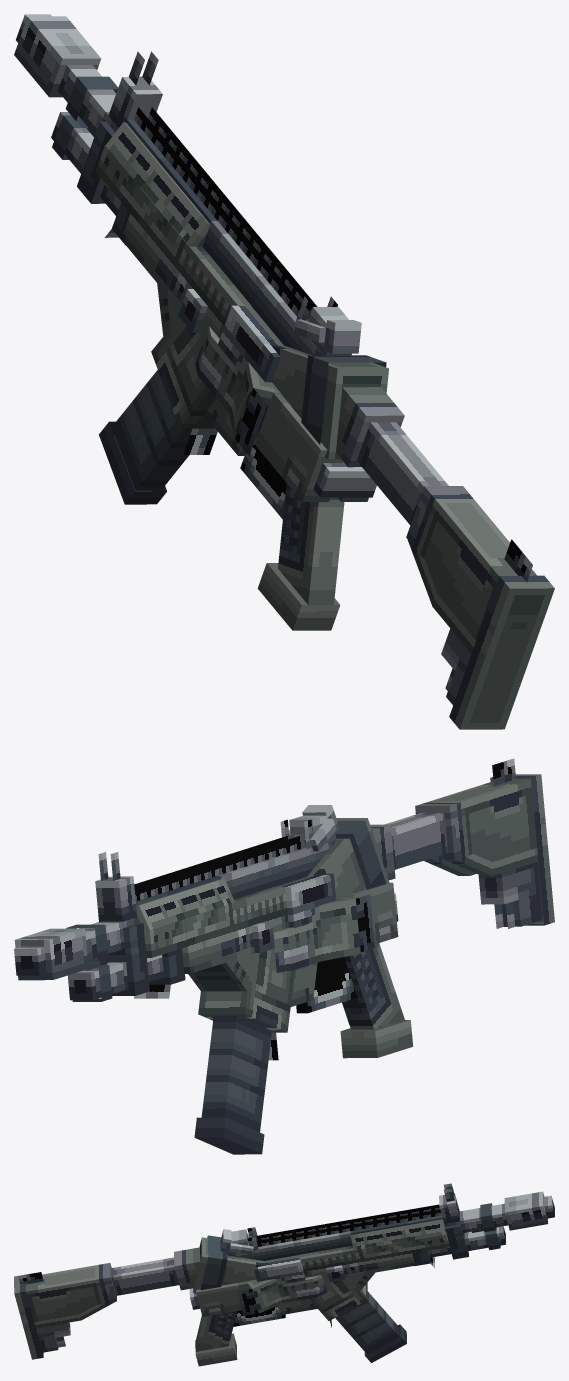
File: blaster.glb
3 renders of one model, top to bottom at view 1: azimuth 30°, elevation 25°; view 2: azimuth 150°, elevation 25°; view 3: azimuth 270°, elevation 25°, orthographic. The views are drawn at different scales.
Parts seen in each view (by area): view 1: cube_28, cube_11, cube_29, cube_14, cube_15, cube_7, cube_32, cube_56, cube_45, cube_21, cube_17, cube_54 (+22 smaller); view 2: cube_15, cube_11, cube_21, cube_29, cube_54, cube_7, cube_14, cube_45, cube_32, cube_17, cube_56, cube_4 (+32 smaller); view 3: cube_11, cube_14, cube_15, cube_7, cube_32, cube_56, cube_60, cube_59, cube_21, cube_17, cube_29, cube_40 (+27 smaller).
Boxes of the visible parts, <box> form: cube_28: <box>449,575,554,729</box>; cube_11: <box>121,187,251,339</box>; cube_29: <box>278,483,344,604</box>; cube_14: <box>134,107,317,319</box>; cube_15: <box>112,370,192,490</box>; cube_7: <box>126,120,322,355</box>; cube_32: <box>356,422,448,525</box>; cube_56: <box>420,486,536,588</box>; cube_45: <box>105,122,210,246</box>; cube_21: <box>151,317,216,428</box>; cube_17: <box>14,16,101,97</box>; cube_54: <box>432,541,494,653</box>; cube_15: <box>201,1015,271,1132</box>; cube_11: <box>182,887,288,973</box>; cube_21: <box>198,949,294,1032</box>; cube_29: <box>342,943,404,1029</box>; cube_54: <box>485,793,538,875</box>; cube_7: <box>135,840,335,923</box>; cube_14: <box>134,833,306,901</box>; cube_45: <box>136,878,234,930</box>; cube_32: <box>384,812,448,869</box>; cube_17: <box>14,928,88,980</box>; cube_56: <box>415,778,531,819</box>; cube_4: <box>319,897,360,961</box>; cube_11: <box>299,1241,414,1281</box>; cube_14: <box>249,1204,441,1246</box>; cube_15: <box>335,1291,399,1354</box>; cube_7: <box>228,1215,444,1260</box>; cube_32: <box>111,1257,178,1295</box>; cube_56: <box>25,1263,111,1297</box>; cube_60: <box>350,1219,445,1249</box>; cube_59: <box>27,1290,81,1328</box>; cube_21: <box>309,1277,367,1320</box>; cube_17: <box>504,1191,548,1230</box>; cube_29: <box>195,1311,236,1351</box>; cube_40: <box>254,1255,305,1284</box>.
Bounding box in the file's own units: 0.5238 × 1.73 × 4.31.
1 material, 1 textured.
